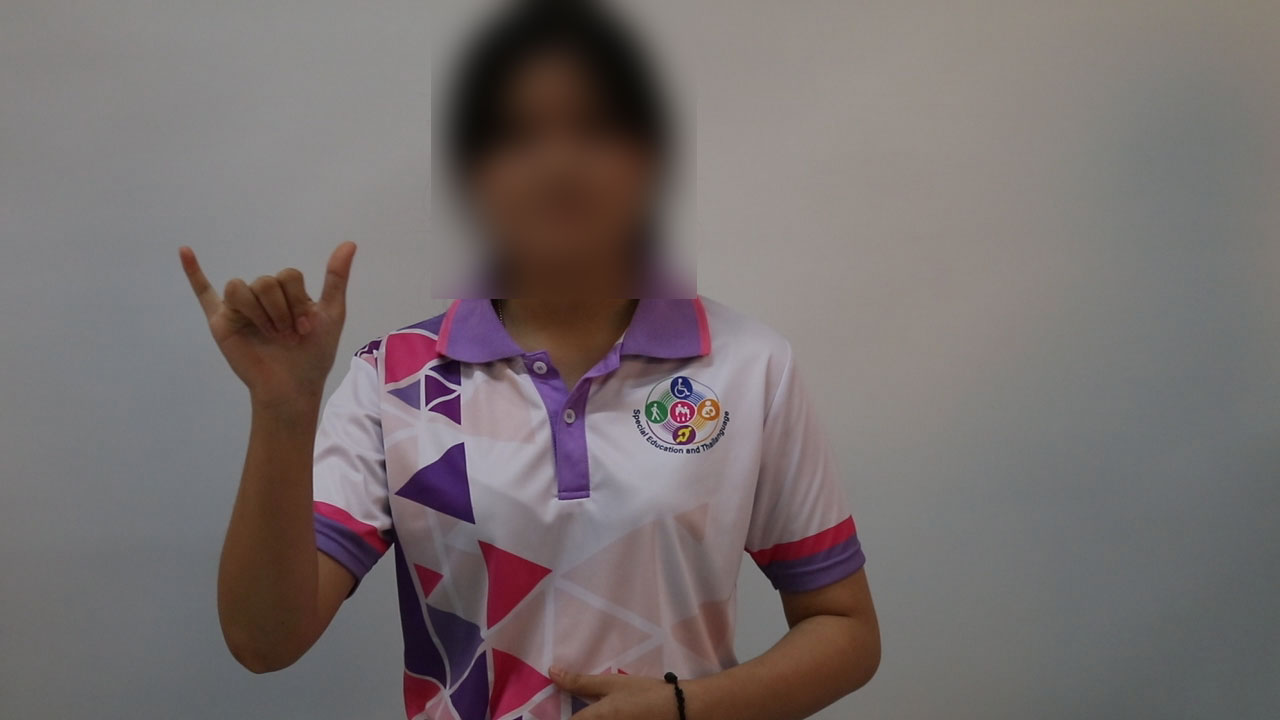yor: (152, 234, 395, 413)
